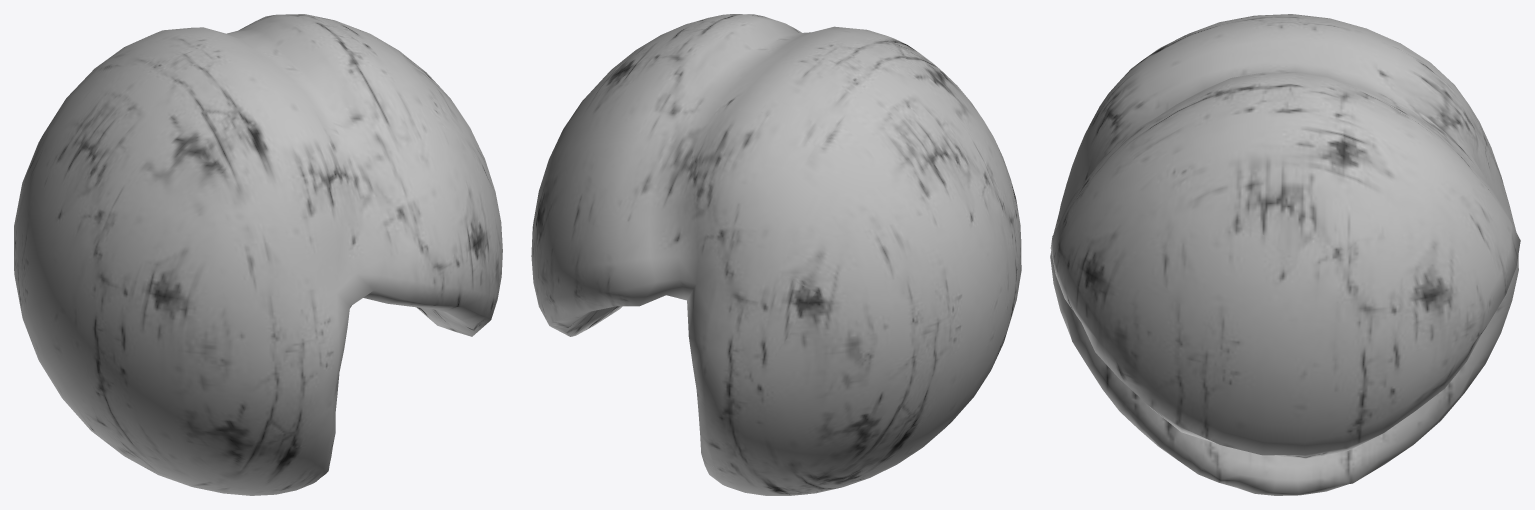
File: Claw.fbx
The picture shows the model from 3 angles, left to right: view 1: azimuth 30°, elevation 25°; view 2: azimuth 150°, elevation 25°; view 3: azimuth 270°, elevation 25°; orthographic projection.
Parts seen in each view (by area): view 1: Low; view 2: Low; view 3: Low.
Part boxes in pixels (x1=…): Low: x1=14, y1=14, x2=502, y2=495; Low: x1=531, y1=14, x2=1021, y2=495; Low: x1=1050, y1=14, x2=1520, y2=495.
Size of the model in its own units: 101 by 98.44 by 95.48.
Materials: 1 (1 with a texture image).
